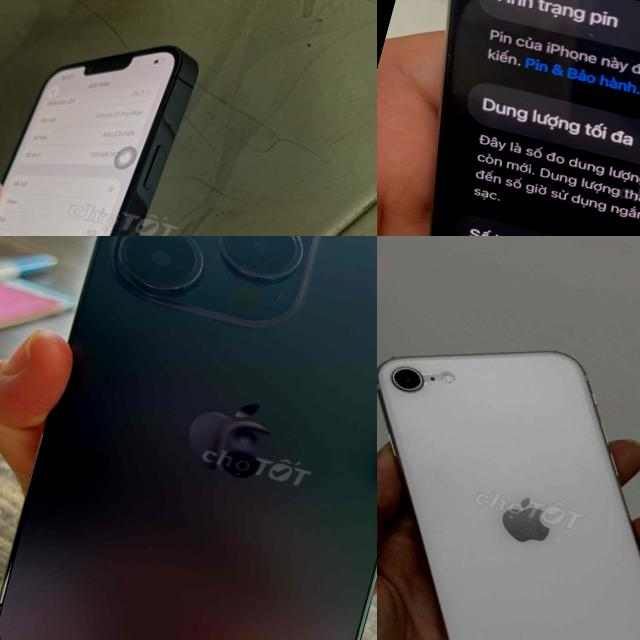gen_12_13: (0, 0, 213, 236)
gen_14: (0, 236, 377, 640)
gen_15: (377, 0, 640, 236)
gen_7_8: (377, 298, 640, 640)
